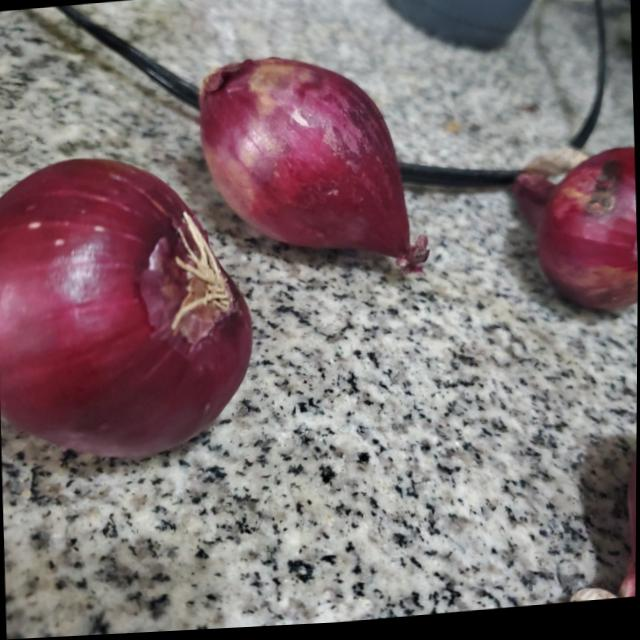onion: (0, 146, 259, 473), (197, 48, 442, 287), (505, 145, 639, 326)
